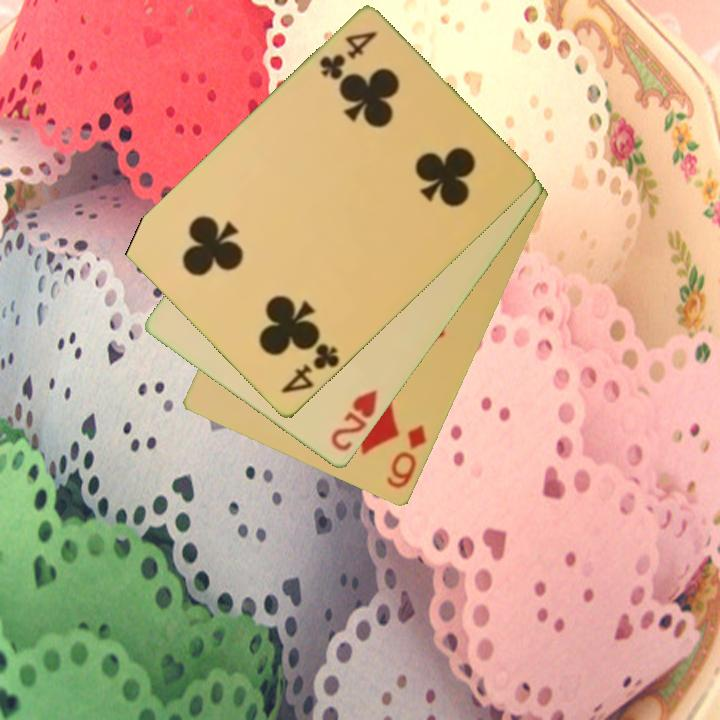2h: (327, 386, 381, 455)
4c: (277, 340, 343, 397), (315, 27, 381, 84)
6d: (383, 421, 430, 492)
